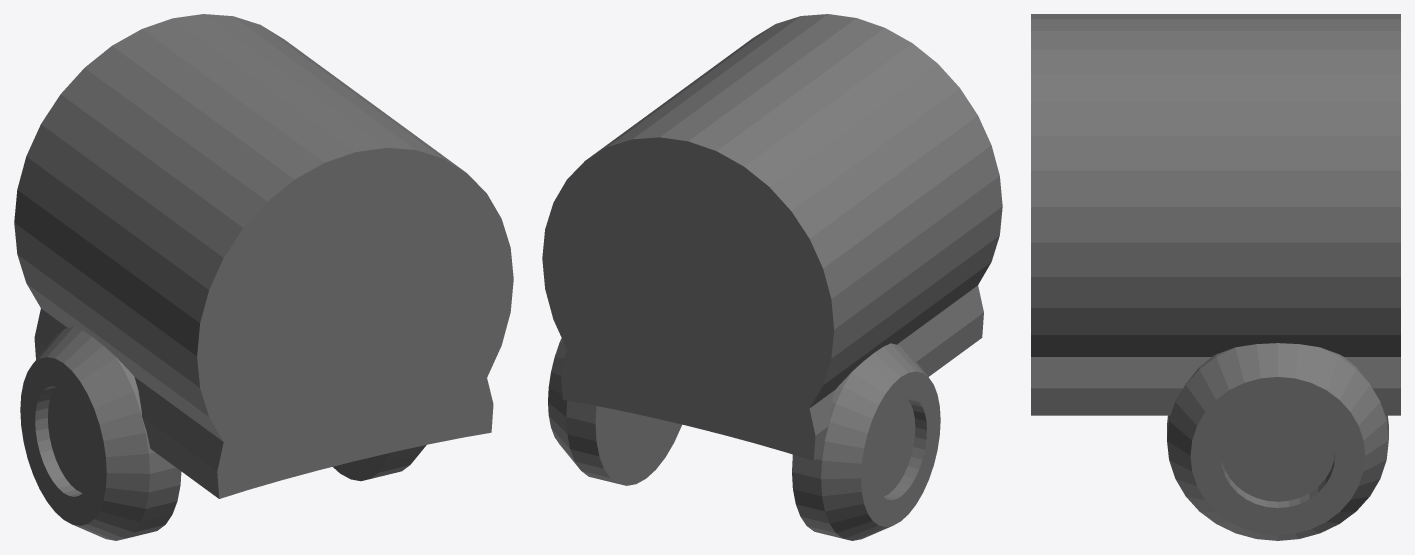
Rendered from turret-pitch-01.glb.
3 renders of one model, left to right at view 1: azimuth 30°, elevation 25°; view 2: azimuth 150°, elevation 25°; view 3: azimuth 270°, elevation 25°, orthographic. The views are drawn at different scales.
Visible parts, largest first — view 1: PitchRotator; view 2: PitchRotator; view 3: PitchRotator.
Boxes of the visible parts, left/top/right/bottom form: PitchRotator: left=14, top=14, right=513, bottom=540; PitchRotator: left=542, top=14, right=1002, bottom=540; PitchRotator: left=1031, top=14, right=1400, bottom=540.
Size of the model in its own units: 0.3572 by 0.4387 by 0.333.
Materials: 1 (1 with a texture image).
